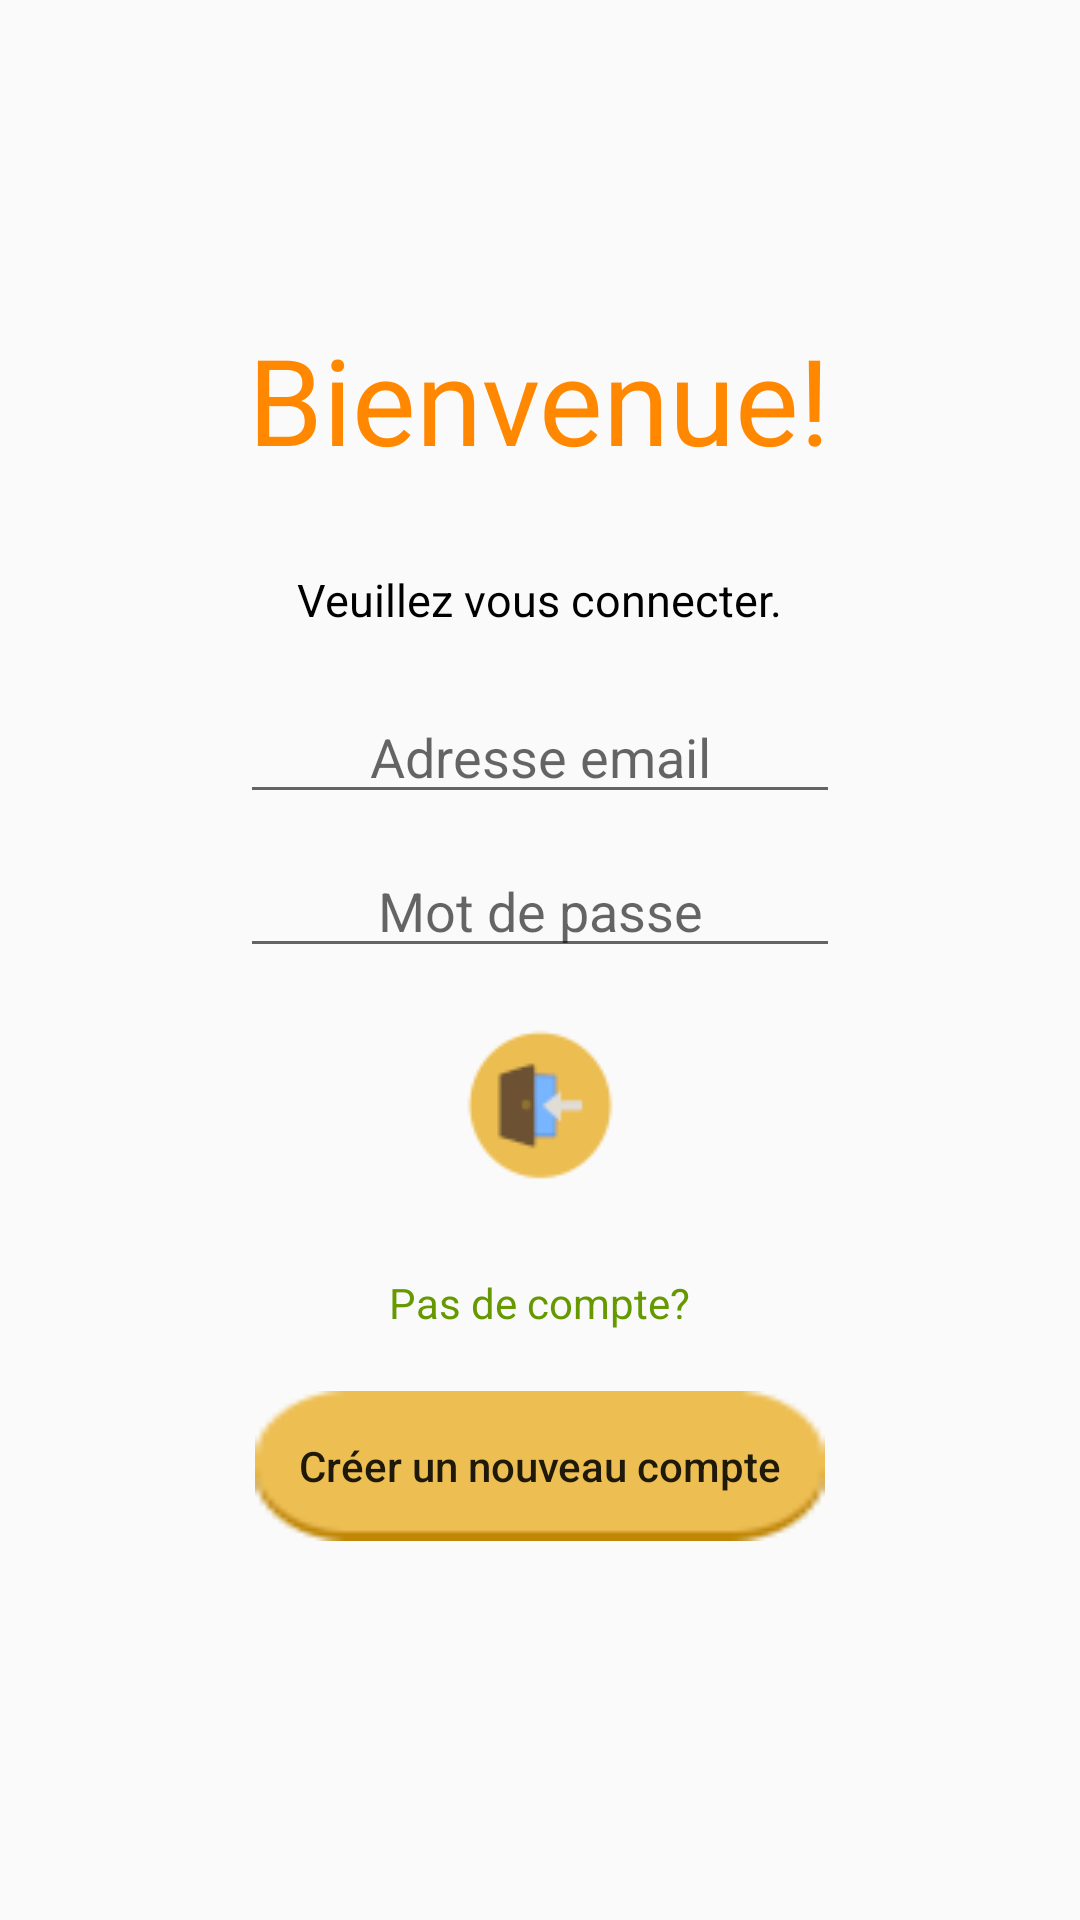

Screen size 1080x1920. Icon name, then its box in pixels as (x1, y1, x2, y2):
login: (468, 1031, 613, 1179)
